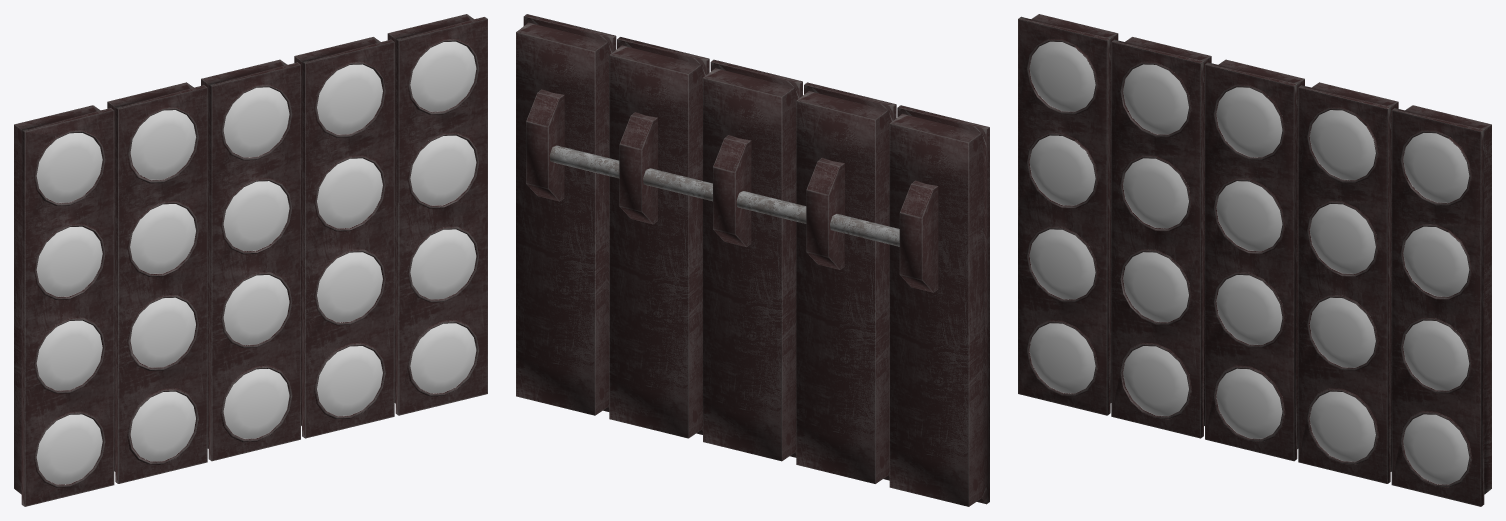
Rendered from panel.glb.
3 views of the same model, side by side, from view 1: azimuth 30°, elevation 25°; view 2: azimuth 150°, elevation 25°; view 3: azimuth 330°, elevation 25° (orthographic).
Visible parts, largest first — view 1: body_00, lamp_00; view 2: body_00; view 3: body_00, lamp_00.
Boxes of the visible parts, bbox=[...] form: body_00: bbox=[14, 14, 487, 506]; lamp_00: bbox=[36, 41, 476, 484]; body_00: bbox=[516, 14, 989, 506]; body_00: bbox=[1018, 14, 1491, 506]; lamp_00: bbox=[1029, 41, 1469, 484].
Size of the model in its own units: 1.94 by 1.5 by 0.2646.
Materials: 2 (1 with a texture image).
